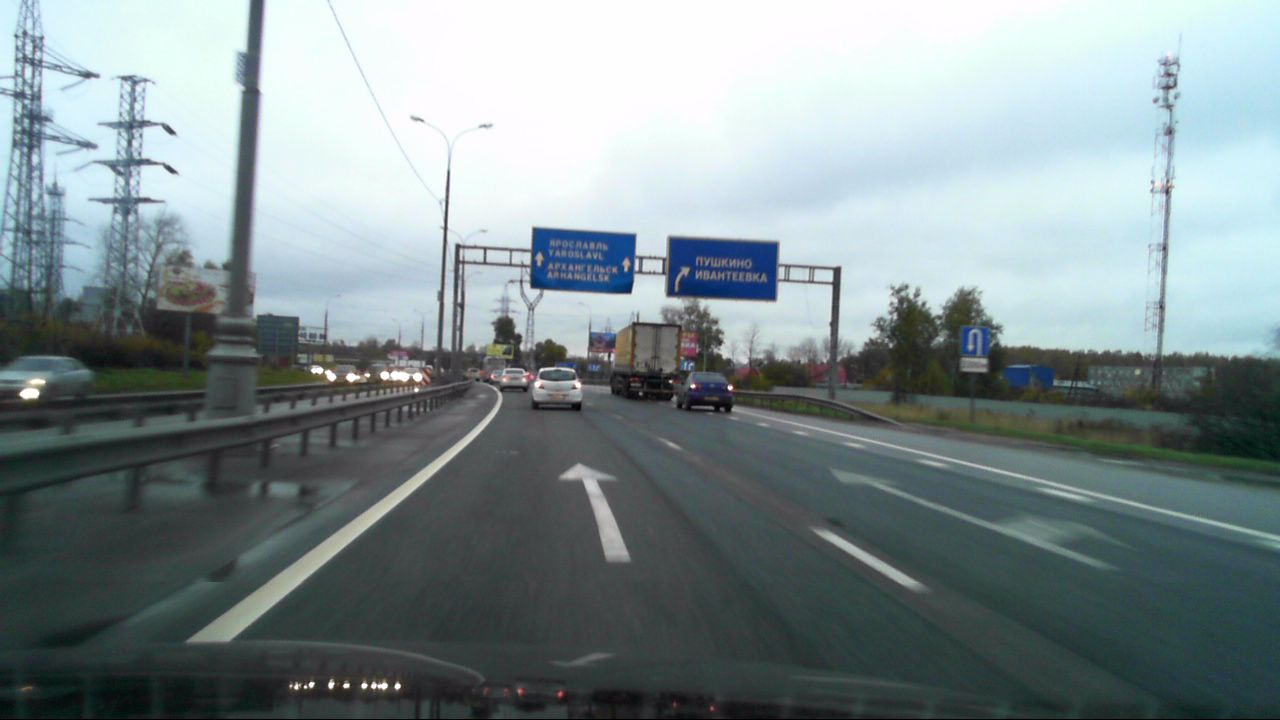U-turn: (960, 326, 987, 357)
